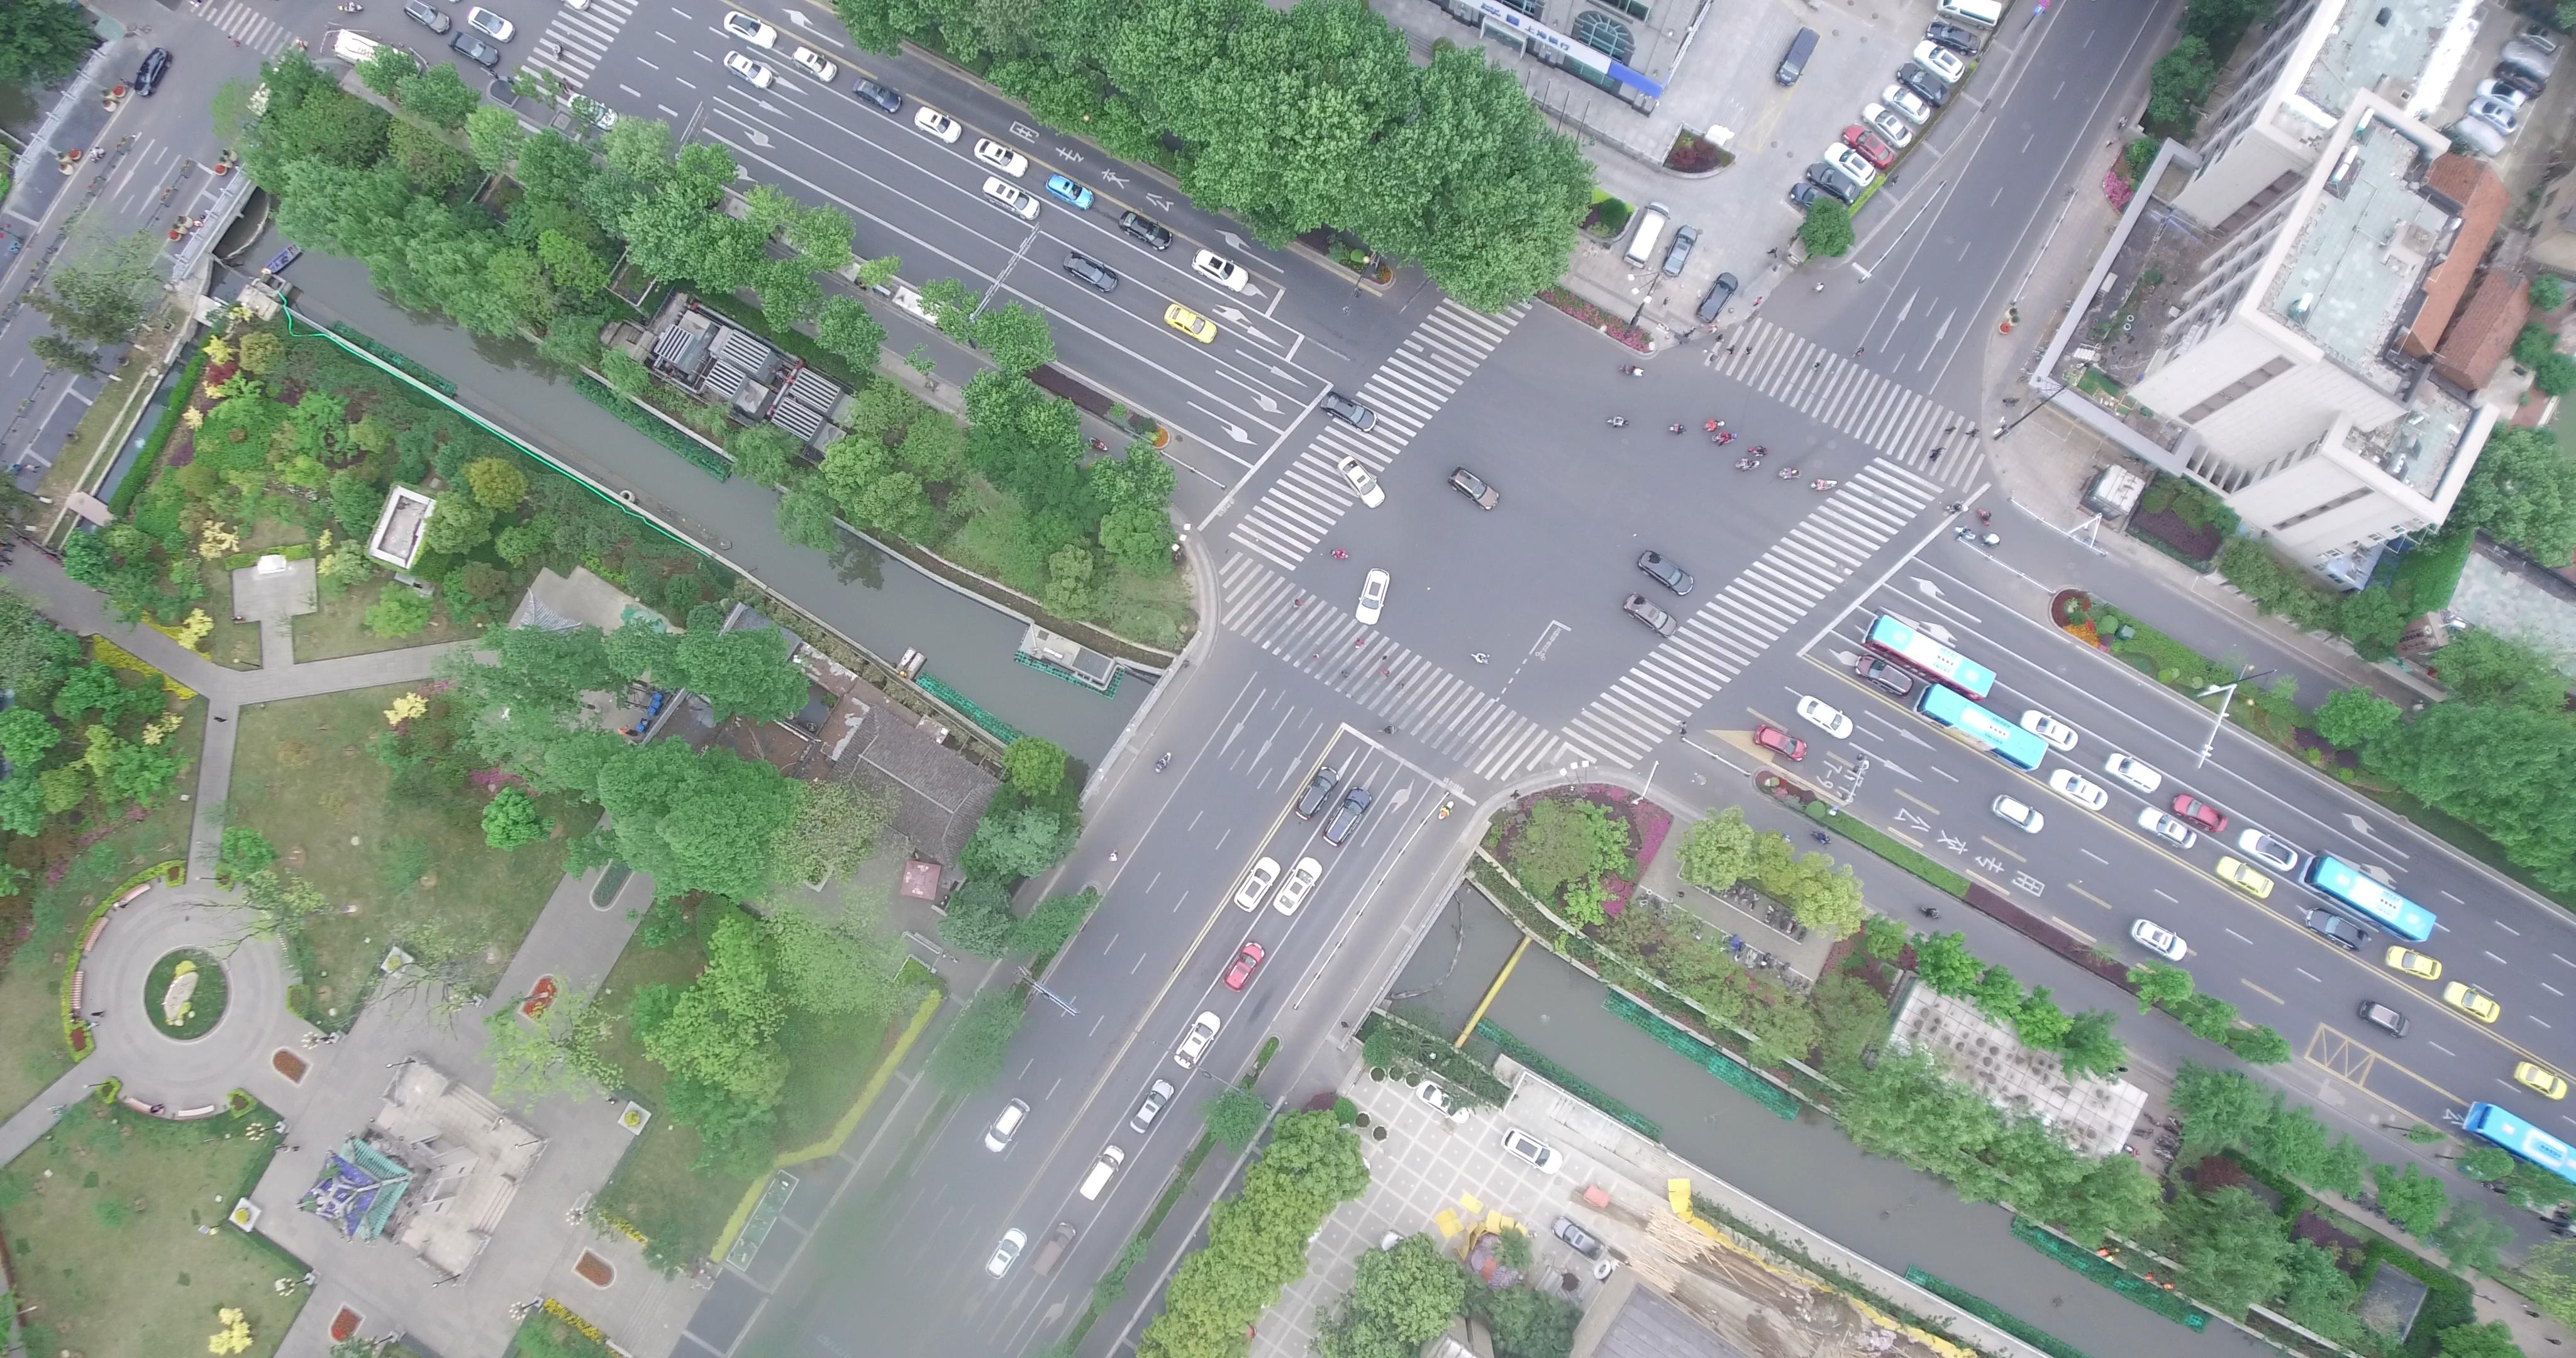Vehicle: (2300, 852, 2441, 947), (1910, 682, 2053, 775), (1860, 617, 1998, 702), (2460, 1102, 2576, 1182), (334, 29, 423, 80), (1320, 780, 1375, 845), (2044, 765, 2109, 820), (1499, 1128, 1566, 1181), (1622, 203, 1676, 266), (2300, 908, 2372, 956), (1268, 854, 1324, 913), (2017, 705, 2084, 755), (1888, 60, 1952, 109), (1058, 242, 1119, 293), (1228, 855, 1281, 913), (1077, 1145, 1128, 1205), (2135, 804, 2196, 854), (2169, 791, 2230, 840), (1634, 547, 1697, 595), (1775, 24, 1821, 89), (1349, 562, 1394, 629), (1295, 760, 1343, 821), (2128, 917, 2189, 964), (1187, 242, 1249, 290), (980, 176, 1043, 222), (1170, 1012, 1223, 1067), (1026, 1222, 1077, 1278), (1331, 453, 1387, 504), (983, 1096, 1032, 1154), (2237, 828, 2303, 871), (983, 1225, 1032, 1281), (1622, 590, 1680, 637), (2443, 976, 2501, 1024), (1804, 157, 1862, 204), (2213, 854, 2274, 898), (2382, 942, 2443, 987), (1416, 1077, 1472, 1125), (1910, 36, 1966, 83), (1794, 693, 1855, 736), (1987, 792, 2048, 835), (1693, 273, 1743, 325), (2452, 112, 2506, 160), (1821, 140, 1877, 186), (2102, 753, 2165, 794), (1550, 1215, 1608, 1259), (1881, 82, 1934, 129), (1860, 102, 1915, 148), (1220, 939, 1264, 995), (1443, 465, 1499, 509), (564, 90, 622, 133), (1131, 1079, 1177, 1131), (968, 136, 1029, 176), (1789, 177, 1845, 220), (1854, 654, 1912, 695), (1317, 392, 1380, 429), (1842, 124, 1893, 170), (1654, 222, 1699, 274), (1119, 208, 1172, 252), (908, 104, 968, 143), (2501, 41, 2556, 83), (724, 9, 779, 51), (2513, 1058, 2569, 1099), (2353, 997, 2411, 1036), (722, 48, 775, 90), (1753, 721, 1809, 760), (1932, 0, 2002, 31), (2464, 95, 2518, 135), (1159, 305, 1218, 341), (465, 5, 516, 46), (1046, 170, 1095, 211), (450, 29, 499, 70), (129, 46, 170, 95), (2477, 77, 2528, 114), (2493, 60, 2545, 95), (1927, 20, 1980, 56), (850, 77, 903, 112), (399, 0, 450, 36), (789, 46, 838, 80), (2516, 20, 2561, 53)
